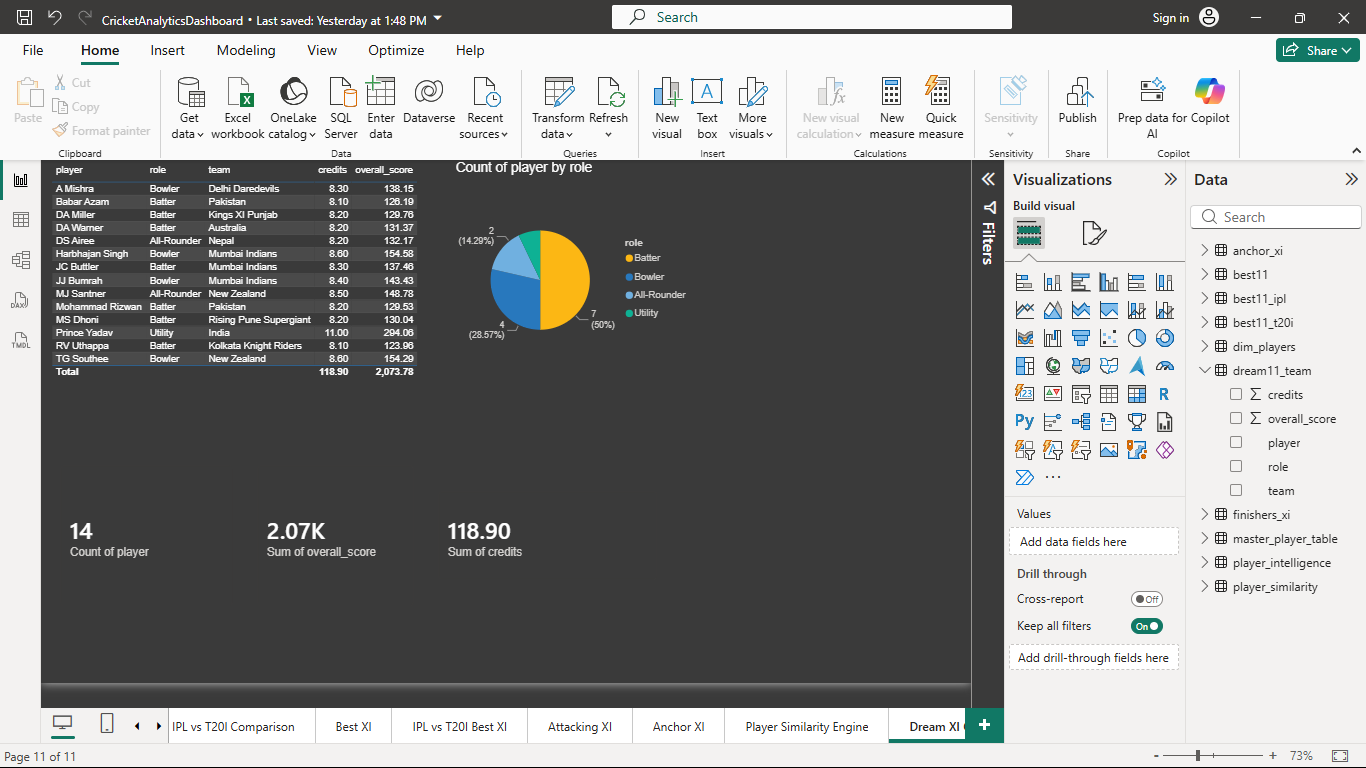

Layout of this report page (visuals, bound fields, positions):
{"tool":"powerbi","page":{"name":"Best XI","canvas":[1280,720],"ordinal":5},"visuals":[{"type":"tableEx","fields":{"Values":["best11.player","best11.team","best11.role","Sum(best11.runs)","Sum(best11.wickets)","Sum(best11.overall_score)"]},"box":[33.6,10.1,1246.4,278.8],"z":0},{"type":"actionButton","box":[0,0,100,40],"z":1000},{"type":"donutChart","fields":{"Category":["best11.role"],"Y":["Count(best11.player)"]},"box":[33.6,305.7,1224.6,388],"z":2000}]}

Visuals, with their boxes on the page's 1280x720 design canvas (x1, y1, x2, y2). These are canvas units, not pixel positions in the 1366x768 screenshot, which may show the page scaled, cropped or inside an application window:
tableEx - best11.player x best11.team: 34 10 1280 289
actionButton: 0 0 100 40
donutChart - best11.role x Count(best11.player): 34 306 1258 694
